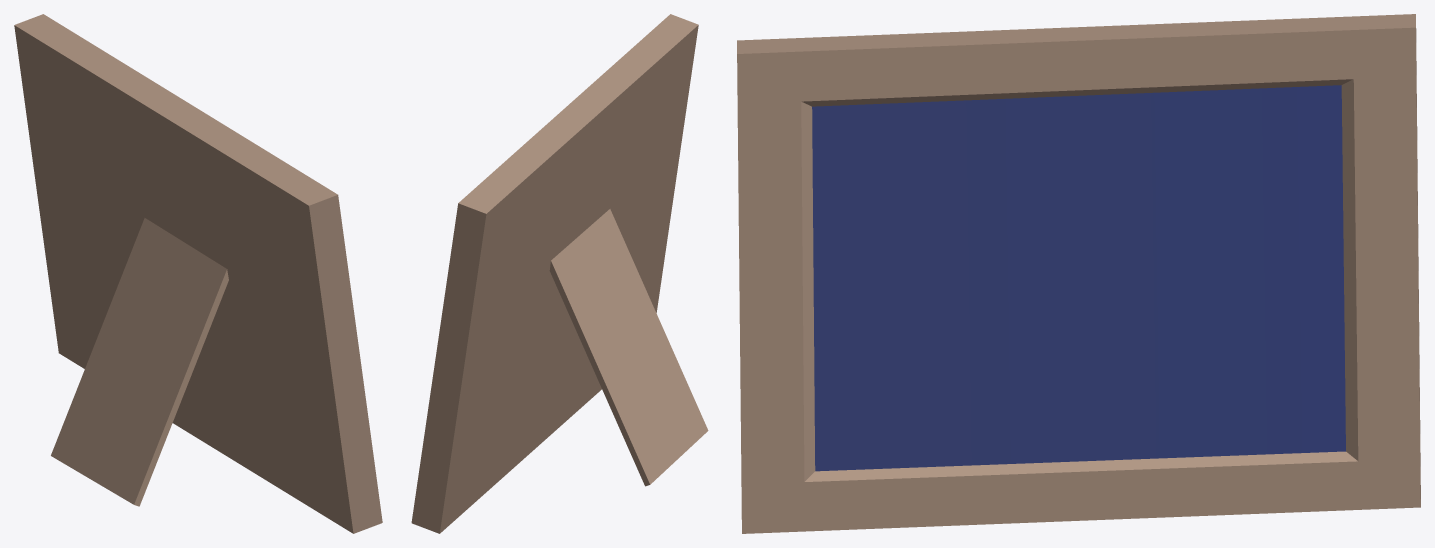
File: Bedroom_2_Photoframe.fbx
3 views of the same model, side by side, from view 1: azimuth 30°, elevation 25°; view 2: azimuth 150°, elevation 25°; view 3: azimuth 270°, elevation 25° (orthographic). The views are drawn at different scales.
Visible parts, largest first — view 1: Bedroom_2_Photoframe; view 2: Bedroom_2_Photoframe; view 3: Bedroom_2_Photoframe.
Part boxes in pixels (<box>): Bedroom_2_Photoframe: <box>14,14,382,533</box>; Bedroom_2_Photoframe: <box>411,14,708,533</box>; Bedroom_2_Photoframe: <box>737,14,1420,533</box>.
Bounding box in the file's own units: 11.5 × 21.19 × 28.71.
